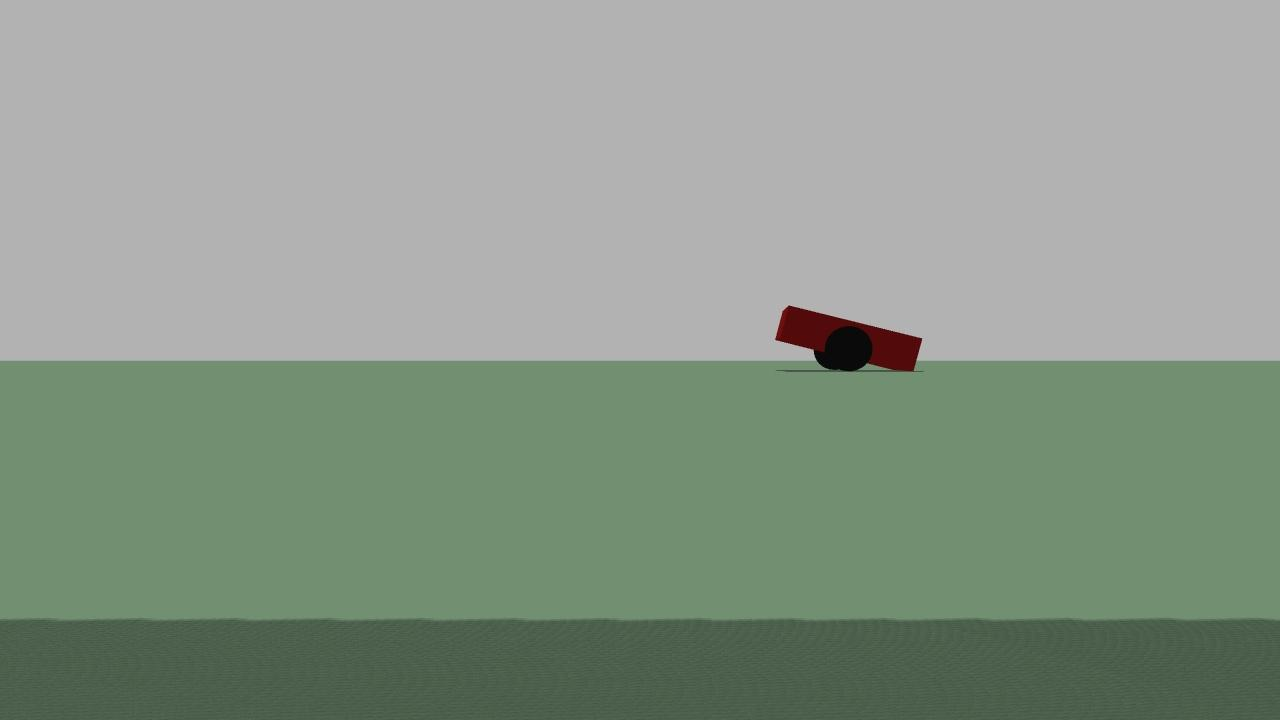ground_vehicle: (765, 299, 928, 385)
